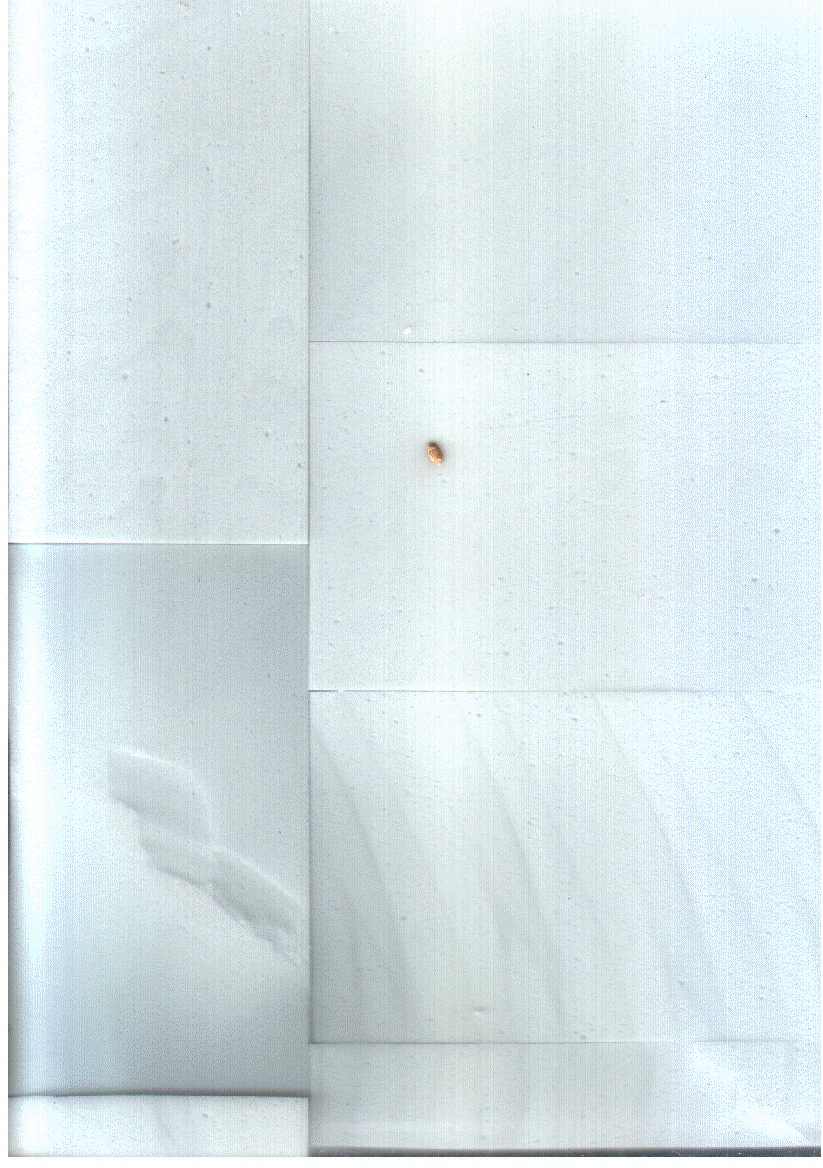grains: (415, 429, 457, 476)
